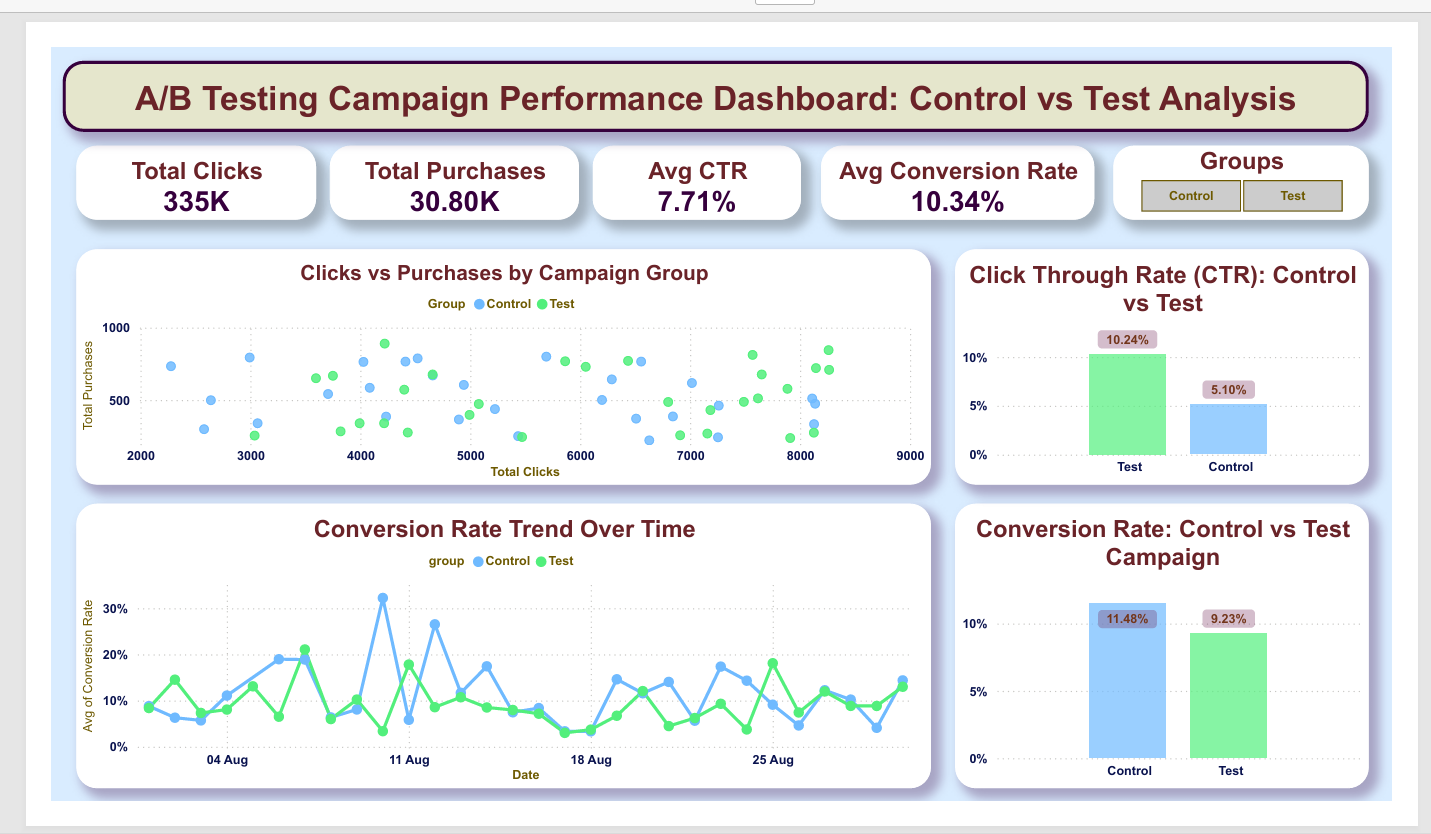

What the dashboard file says about the page in this screenshot:
{"tool":"powerbi","page":{"name":"Page 1","canvas":[1280,720],"ordinal":0},"visuals":[{"type":"card","title":"Total Clicks","fields":{"Values":["Sum(final_ab_data.clicks)"]},"box":[24.3,93.9,228.3,71.2],"z":0},{"type":"card","title":"Total Purchases","fields":{"Values":["Sum(final_ab_data.purchases)"]},"box":[265.6,93.9,238,71.2],"z":1000},{"type":"card","title":"Avg Conversion Rate","fields":{"Values":["Avg(final_ab_data.conversion_rate)"]},"box":[735.1,93.9,260.7,71.2],"z":2000},{"type":"card","title":"Avg CTR","fields":{"Values":["Avg(final_ab_data.CTR)"]},"box":[516.5,93.9,199.2,71.2],"z":3000},{"type":"textbox","box":[11.3,13,1246.8,68],"z":4000},{"type":"clusteredColumnChart","title":"Conversion Rate: Control vs Test Campaign","fields":{"Category":["final_ab_data.group"],"Y":["Avg(final_ab_data.conversion_rate)"]},"box":[863,435.6,395.1,272],"z":5000},{"type":"clusteredColumnChart","title":"Click Through Rate (CTR): Control vs Test","fields":{"Category":["final_ab_data.group"],"Y":["Avg(final_ab_data.CTR)"]},"box":[863,192.7,395.1,225.1],"z":6000},{"type":"scatterChart","title":"Clicks vs Purchases by Campaign Group","fields":{"X":["Sum(final_ab_data.clicks)"],"Y":["Sum(final_ab_data.purchases)"],"Category":["final_ab_data.Date"],"Series":["final_ab_data.group"]},"box":[24.3,192.7,816.1,225.1],"z":7000},{"type":"lineChart","title":"Conversion Rate Trend Over Time","fields":{"Category":["final_ab_data.Date"],"Y":["Avg(final_ab_data.conversion_rate)"],"Series":["final_ab_data.group"]},"box":[24.3,435.6,816.1,272],"z":8000},{"type":"slicer","title":"Groups","fields":{"Values":["final_ab_data.group"]},"box":[1013.6,93.9,244.5,71.2],"z":8001}]}

Visuals, with their boxes in screenshot pixels (x1, y1, x2, y2):
"Total Clicks" card: l=56, t=141, r=298, b=217
"Total Purchases" card: l=312, t=141, r=565, b=217
"Avg Conversion Rate" card: l=812, t=141, r=1089, b=217
"Avg CTR" card: l=579, t=141, r=791, b=217
textbox: l=42, t=55, r=1368, b=127
"Conversion Rate: Control vs Test Campaign" clusteredColumnChart: l=948, t=504, r=1368, b=793
"Click Through Rate (CTR): Control vs Test" clusteredColumnChart: l=948, t=246, r=1368, b=485
"Clicks vs Purchases by Campaign Group" scatterChart: l=56, t=246, r=924, b=485
"Conversion Rate Trend Over Time" lineChart: l=56, t=504, r=924, b=793
"Groups" slicer: l=1108, t=141, r=1368, b=217
